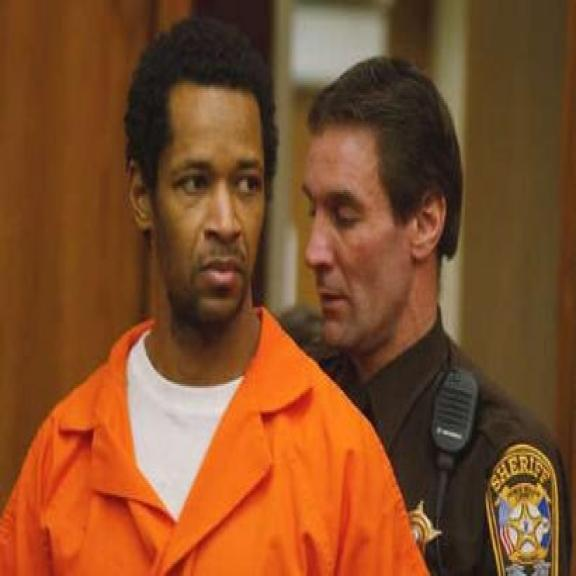face: (296, 122, 447, 351), (124, 81, 265, 325)
